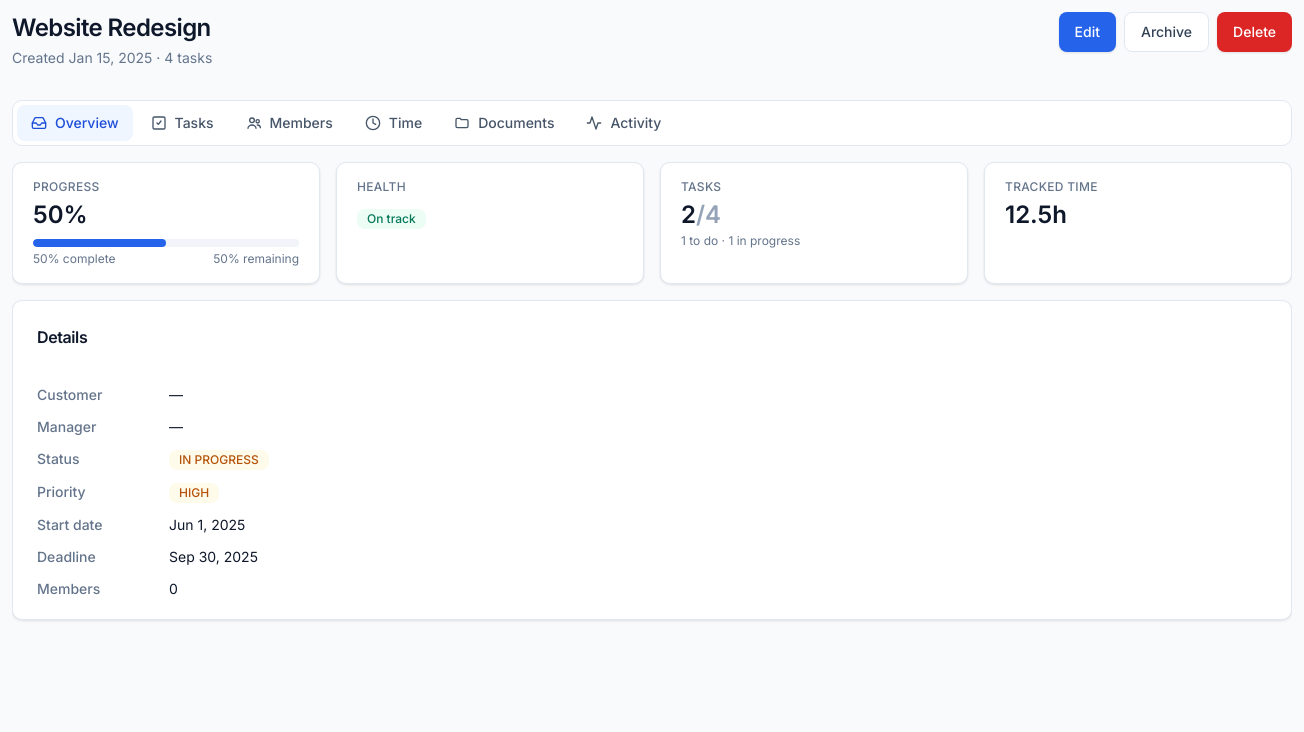
Test: ProjectDetailsPage workspace › switches between tabs and fetches per-tab data
The image size is (1304, 732).
Expected: the heading "Website Redesign" is shown, 12,12 -> 212,44
Step 1. Click the button "Tasks" → (182, 123), box 136,105 -> 228,141
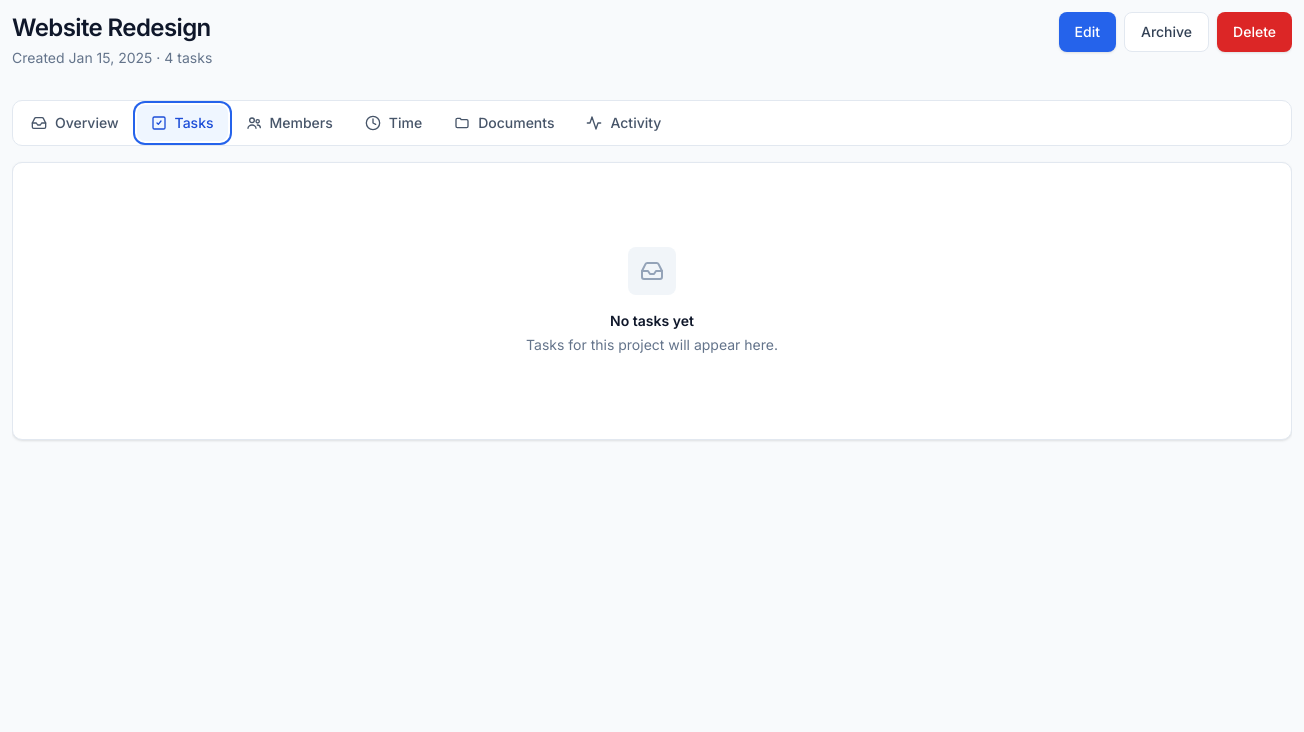
Expected: the heading "No tasks yet" is shown, 610,311 -> 694,331
Step 2. Click the button "Members" → (289, 123), box 232,105 -> 347,141
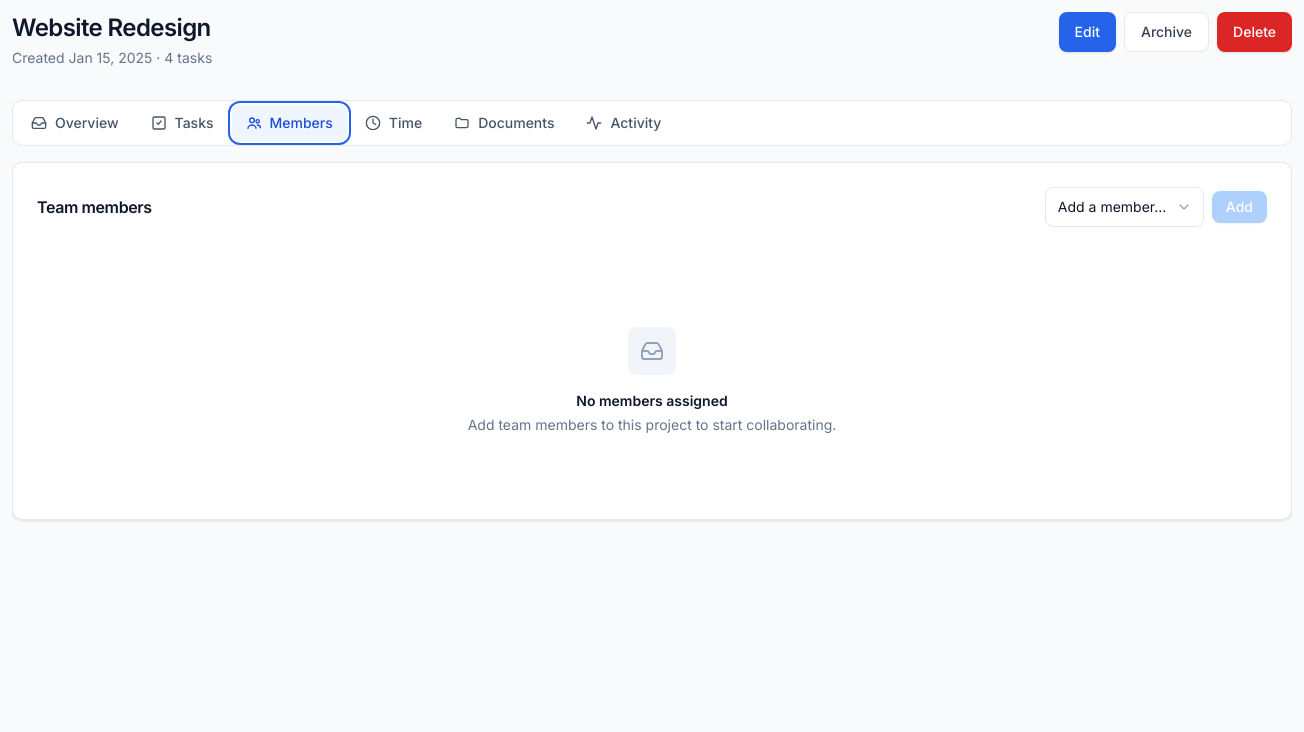
Expected: the heading "No members assigned" is shown, 576,391 -> 728,411
Step 3. Click the button "Activity" → (624, 123), box 572,105 -> 675,141
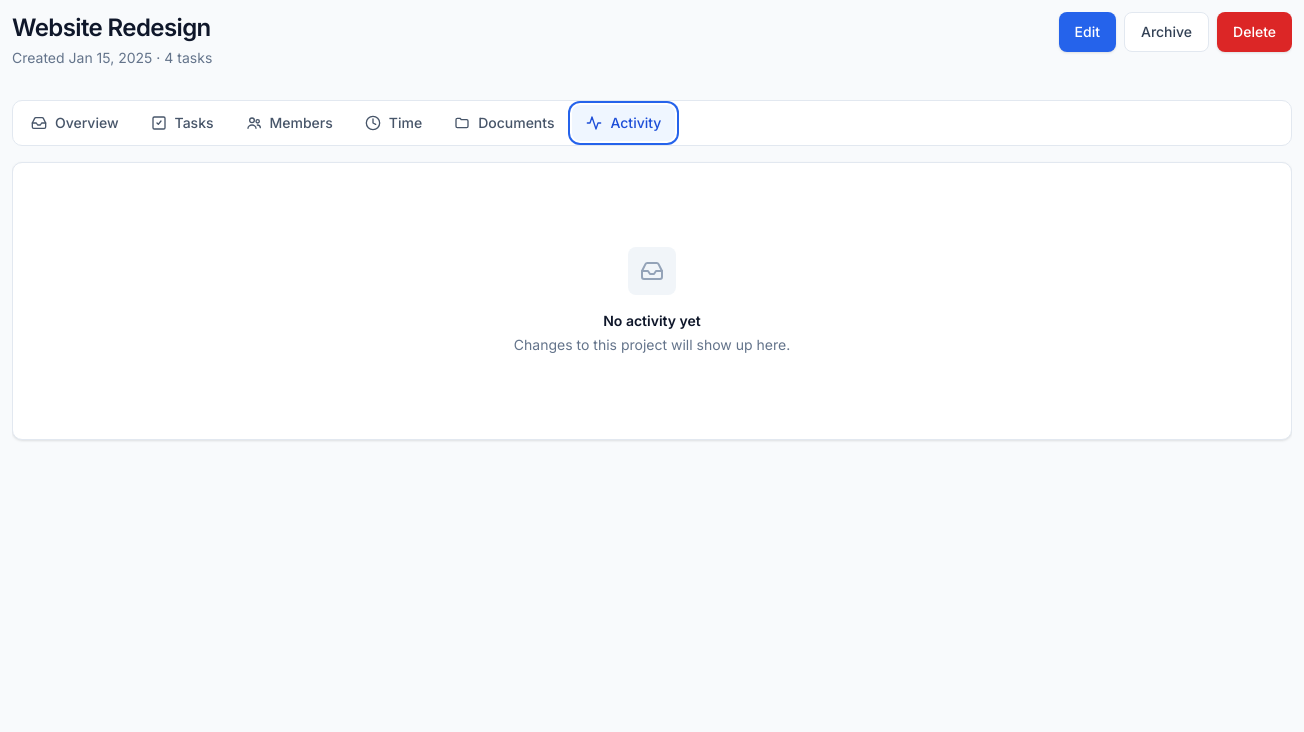
Expected: the heading "No activity yet" is shown, 603,311 -> 701,331
